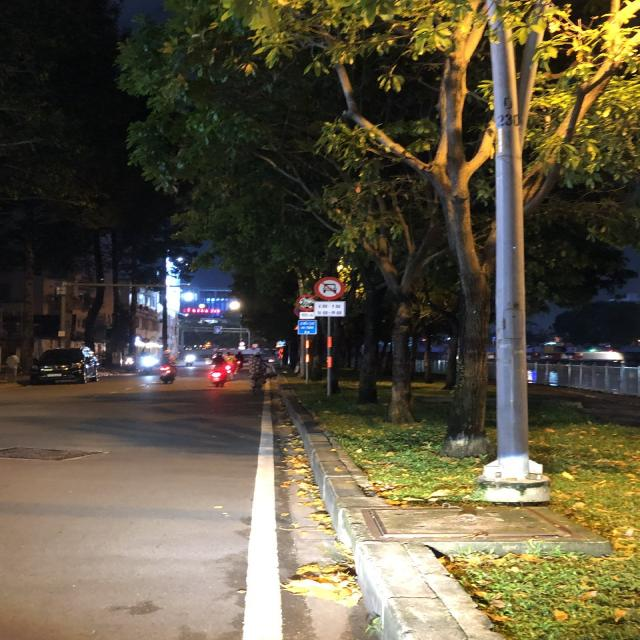Bien bao cam xe oto: (312, 274, 347, 302)
